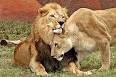lion: (13, 4, 74, 76), (54, 11, 116, 74)
